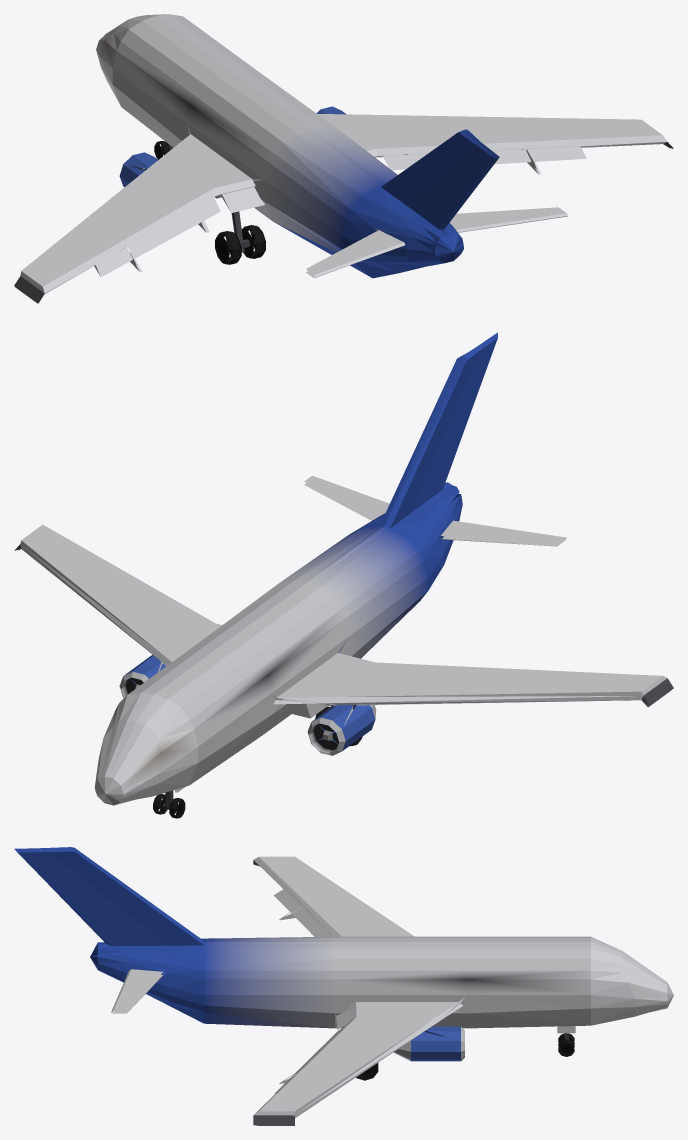
Rendered from airliner.fbx.
3 renders of one model, top to bottom at view 1: azimuth 30°, elevation 25°; view 2: azimuth 150°, elevation 25°; view 3: azimuth 270°, elevation 25°, orthographic. The views are drawn at different scales.
Visible parts, largest first — view 1: Airplane1; view 2: Airplane1; view 3: Airplane1.
Boxes of the visible parts, x1=… form: Airplane1: x1=14, y1=14, x2=673, y2=303; Airplane1: x1=14, y1=332, x2=673, y2=818; Airplane1: x1=14, y1=847, x2=673, y2=1125.
Bounding box in the file's own units: 0.9348 × 0.3465 × 1.
